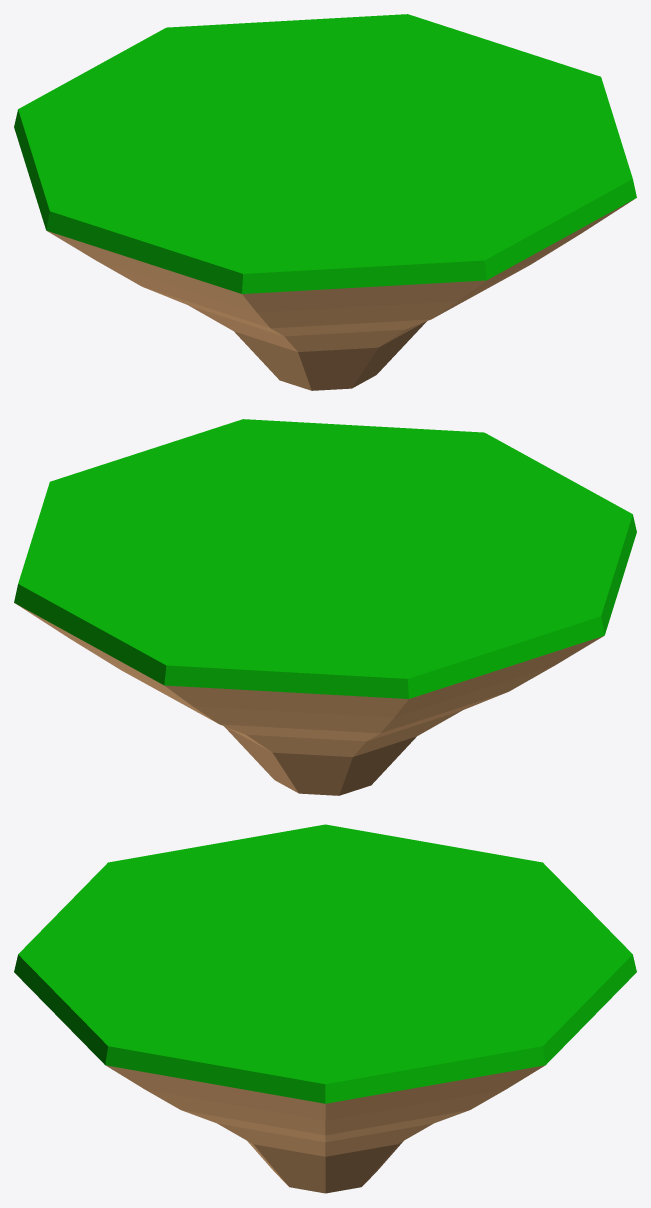
File: island_large.glb
3 views of the same model, one above another, from view 1: azimuth 30°, elevation 25°; view 2: azimuth 150°, elevation 25°; view 3: azimuth 270°, elevation 25° (orthographic). The views are drawn at different scales.
Visible parts, largest first — view 1: IslandLarge; view 2: IslandLarge; view 3: IslandLarge.
Part boxes in pixels (box(x1,y1,x2,y2)): IslandLarge: box(14, 14, 636, 390); IslandLarge: box(14, 419, 636, 795); IslandLarge: box(14, 824, 636, 1193).
Bounding box in the file's own units: 40.53 × 15.62 × 40.53.
Materials: 1 (1 with a texture image).
